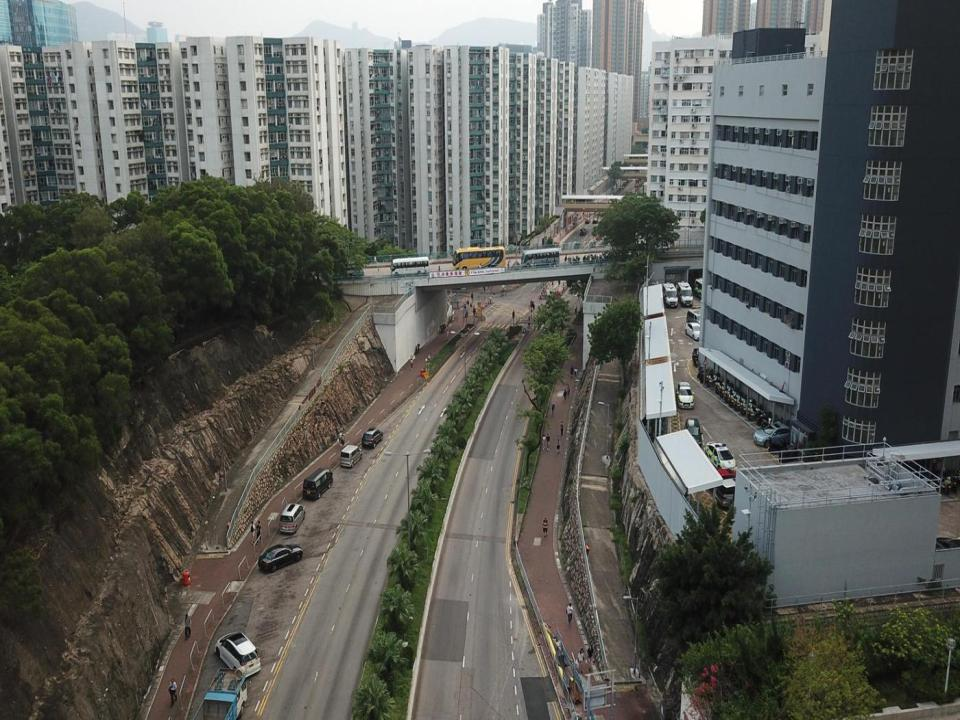bus: (452, 247, 506, 271), (521, 246, 560, 268), (390, 257, 429, 278), (325, 261, 364, 280)
car: (258, 544, 302, 571), (704, 441, 738, 475), (754, 422, 798, 448), (933, 537, 960, 572), (708, 468, 746, 490), (676, 381, 695, 408), (361, 428, 383, 448), (685, 322, 705, 339), (592, 217, 598, 223), (586, 217, 591, 223)
truck: (192, 668, 247, 719)
van: (214, 630, 260, 679), (714, 476, 759, 507), (303, 467, 333, 500), (279, 503, 305, 532), (694, 276, 717, 304), (683, 417, 703, 448), (339, 445, 362, 468), (686, 308, 708, 332), (676, 281, 694, 307), (661, 282, 678, 308), (580, 228, 586, 236)
